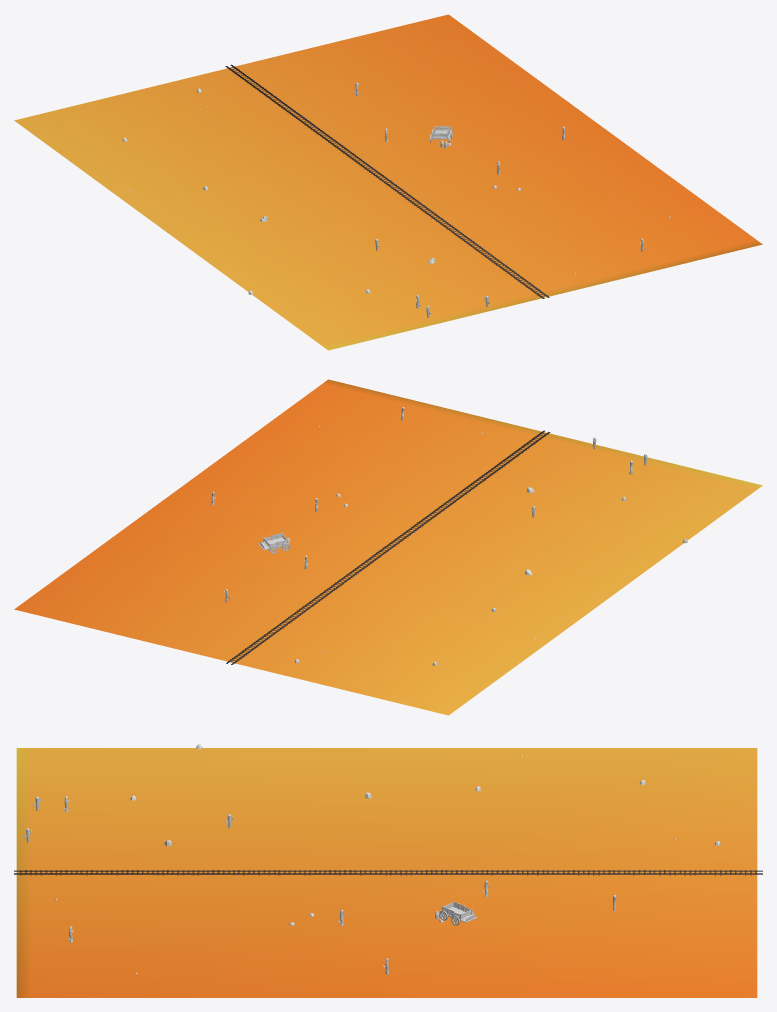
The model's file is Lvl_Version_01.fbx.
3 views of the same model, one above another, from view 1: azimuth 30°, elevation 25°; view 2: azimuth 150°, elevation 25°; view 3: azimuth 270°, elevation 25° (orthographic). The views are drawn at different scales.
Visible parts, largest first — view 1: Level_01; view 2: Level_01; view 3: Level_01.
Boxes of the visible parts, x1,y1,x2,y2 form: Level_01: (14, 14, 762, 350); Level_01: (14, 379, 762, 715); Level_01: (14, 744, 762, 997).
Bounding box in the file's own units: 16091 × 466 × 20276.
